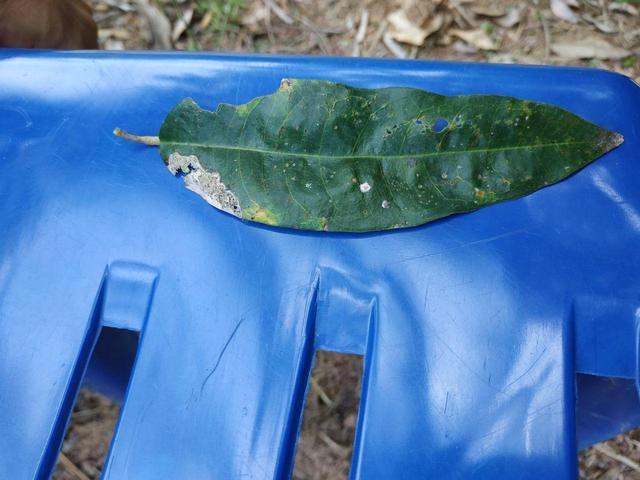Blight Spot: (105, 73, 622, 242)
